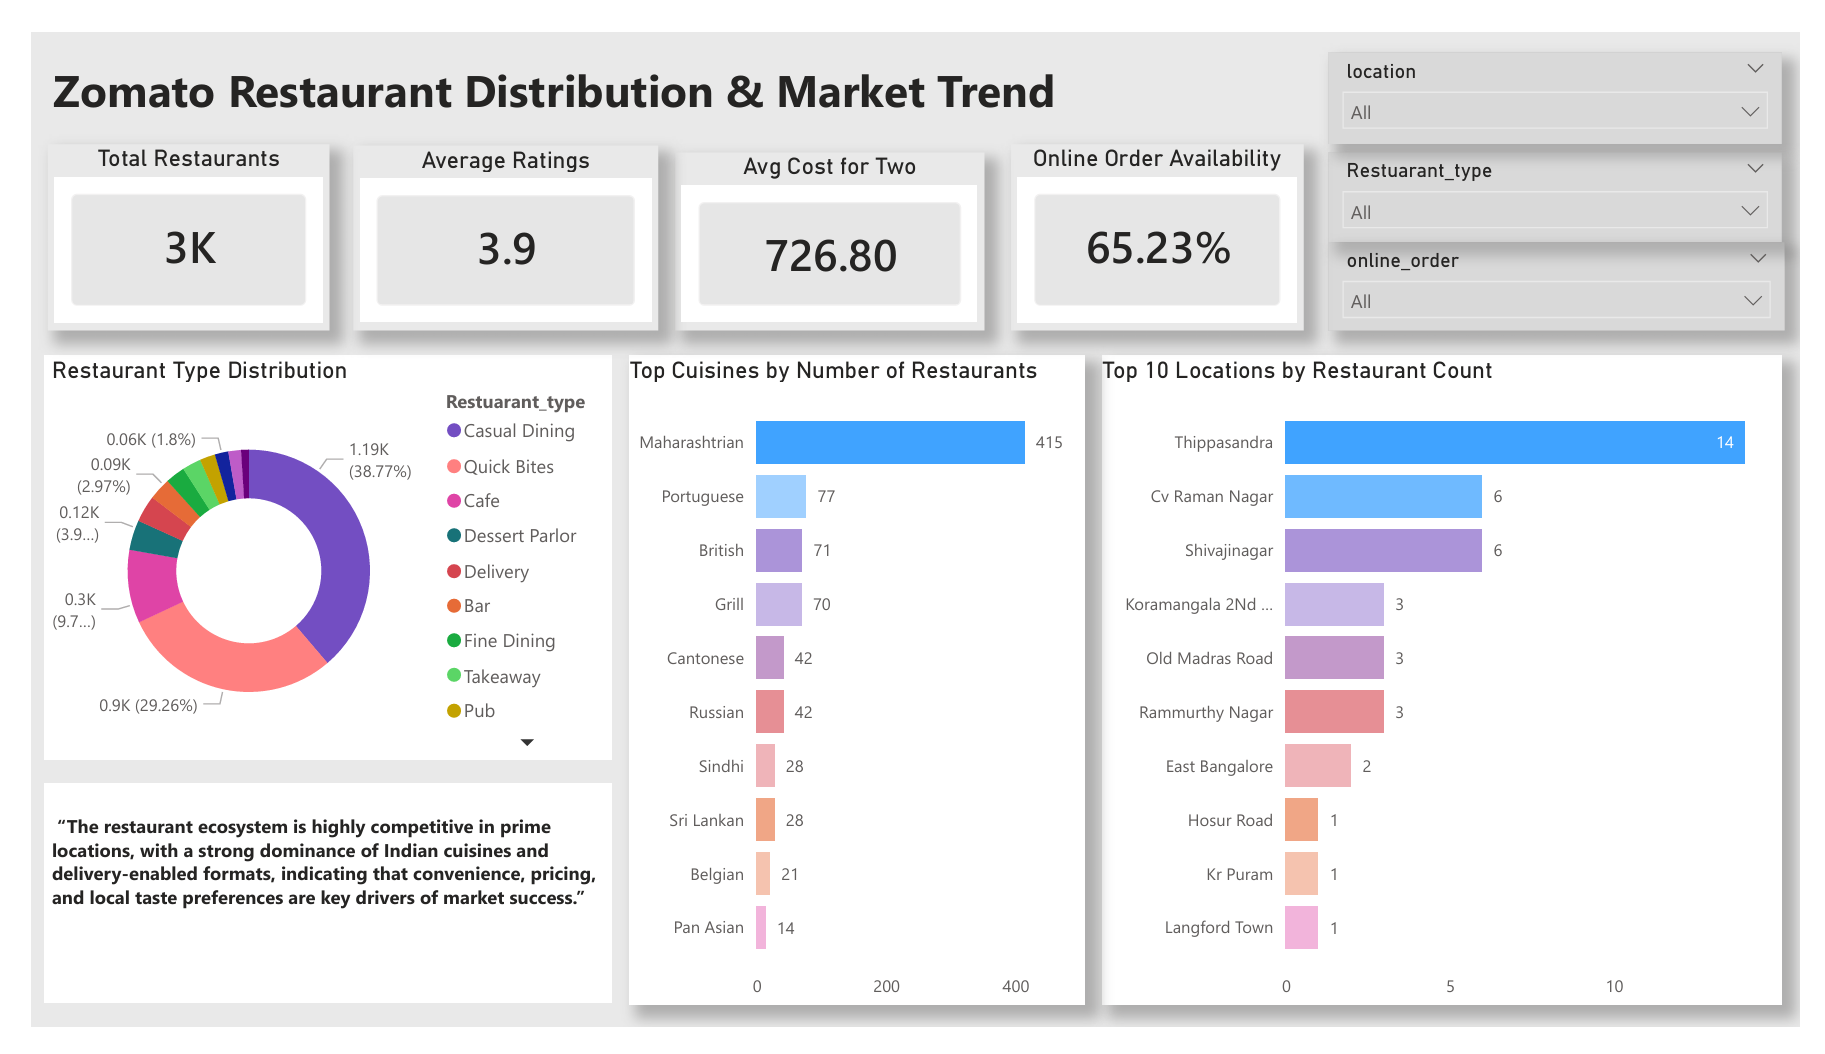

Layout of this report page (visuals, bound fields, positions):
{"tool":"powerbi","page":{"name":"Restaurant Market & Supply Analysis","canvas":[1280,720],"ordinal":3},"visuals":[{"type":"clusteredBarChart","title":"Top 10 Locations by Restaurant Count","fields":{"Category":["Zomato_Restaurants_Clean.location"],"Y":["Count(Zomato_Restaurants_Clean.name)"]},"box":[774.6,234.3,492.5,470.1],"z":0},{"type":"clusteredBarChart","title":"Top Cuisines by Number of Restaurants","fields":{"Category":["Zomato_Restaurants.cuisine"],"Y":["CountNonNull(Zomato_Restaurants.name)"]},"box":[432.8,234.3,329.9,470.1],"z":2},{"type":"slicer","fields":{"Values":["Zomato_Restaurants_Clean.location"]},"box":[938.8,14.9,328.4,65.7],"z":3},{"type":"slicer","fields":{"Values":["Zomato_Restaurants_Clean.Restuarant_type"]},"box":[938.8,86.6,328.4,65.7],"z":4},{"type":"slicer","fields":{"Values":["Zomato_Restaurants_Clean.online_order"]},"box":[938.8,152.2,329.9,64.2],"z":5},{"type":"donutChart","title":"Restaurant Type Distribution","fields":{"Y":["CountNonNull(Zomato_Restaurants_Clean.name)"],"Category":["Zomato_Restaurants_Clean.Restuarant_type"]},"box":[10.4,234.3,410.4,292.5],"z":6},{"type":"cardVisual","title":"Total Restaurants","fields":{"Data":["KPI_Measures.Total Restaurants"]},"box":[11.9,80.6,204.5,135.8],"z":8},{"type":"cardVisual","title":"Average Ratings","fields":{"Data":["KPI_Measures.Avg Rating"]},"box":[232.8,82.1,220.9,134.3],"z":9},{"type":"cardVisual","title":"Avg Cost for Two","fields":{"Data":["KPI_Measures.Avg Cost"]},"box":[465.7,86.6,223.9,129.9],"z":10},{"type":"cardVisual","title":"Online Order Availability","fields":{"Data":["KPI_Measures.Online Order %"]},"box":[709,80.6,211.9,135.8],"z":11},{"type":"textbox","box":[11.5,14.3,909,83.2],"z":12},{"type":"textbox","box":[10,544.4,411.1,158.9],"z":13}]}

Visuals, with their boxes in screenshot pixels (x1, y1, x2, y2), scaled from the page's 1280x720 canvas onto the 1825x1054 screenshot:
"Top 10 Locations by Restaurant Count" clusteredBarChart: 1104,343,1807,1031
"Top Cuisines by Number of Restaurants" clusteredBarChart: 617,343,1087,1031
slicer - Zomato_Restaurants_Clean.location: 1339,22,1807,118
slicer - Zomato_Restaurants_Clean.Restuarant_type: 1339,127,1807,223
slicer - Zomato_Restaurants_Clean.online_order: 1339,223,1809,317
"Restaurant Type Distribution" donutChart: 15,343,600,771
"Total Restaurants" cardVisual: 17,118,309,317
"Average Ratings" cardVisual: 332,120,647,317
"Avg Cost for Two" cardVisual: 664,127,983,317
"Online Order Availability" cardVisual: 1011,118,1313,317
textbox: 16,21,1312,143
textbox: 14,797,600,1030
